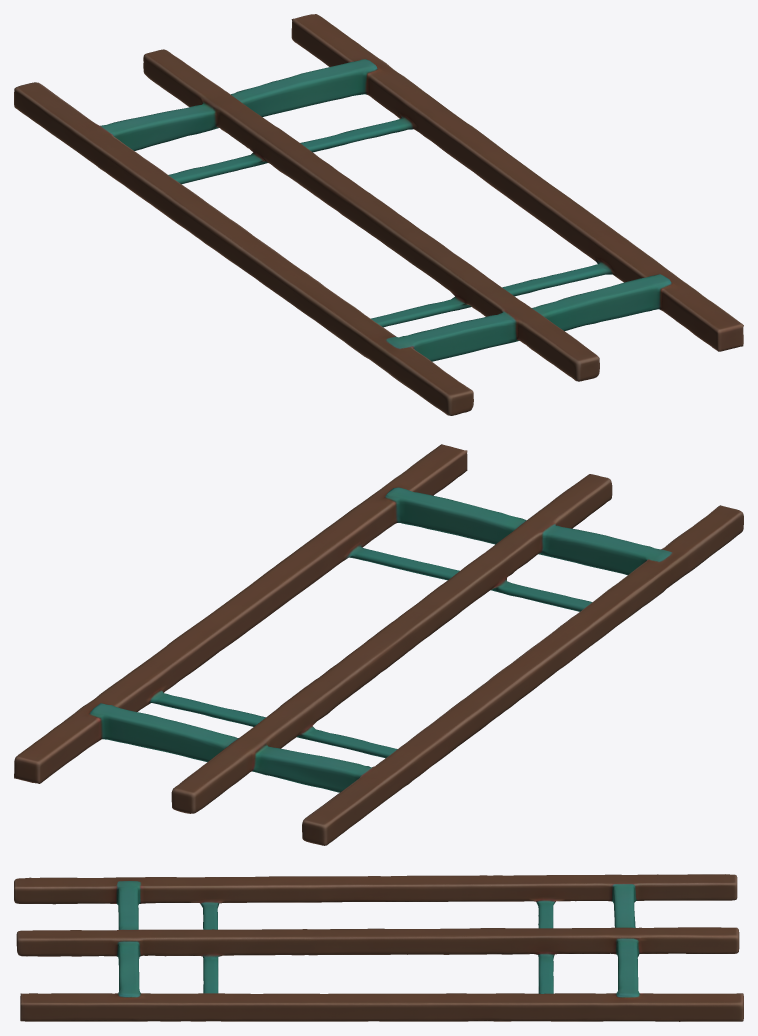
Rendered from text_attempt.glb.
3 renders of one model, top to bottom at view 1: azimuth 30°, elevation 25°; view 2: azimuth 150°, elevation 25°; view 3: azimuth 270°, elevation 25°, orthographic. The views are drawn at different scales.
Visible parts, largest first — view 1: model; view 2: model; view 3: model.
Part boxes in pixels (x1,y1,x2,y2): model: (14,14,743,415); model: (14,444,743,845); model: (14,874,743,1021).
Size of the model in its own units: 0.785 by 0.0684 by 1.9.
Materials: 1 (1 with a texture image).
